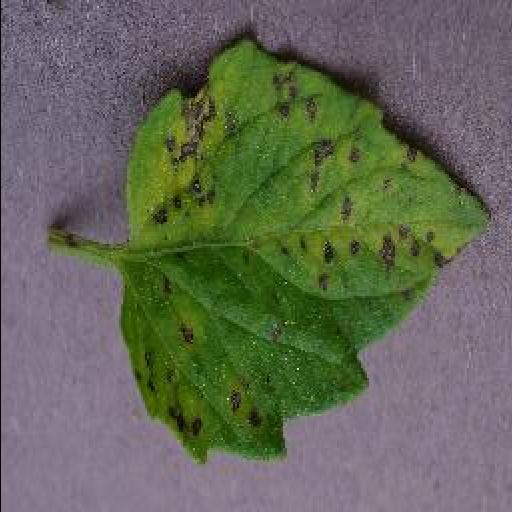disease_tomato: (119, 39, 489, 463)
